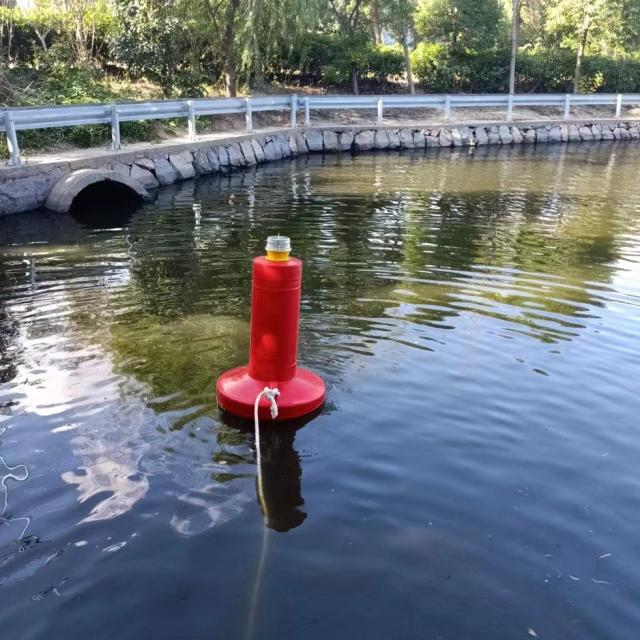buoy: (216, 223, 332, 414)
